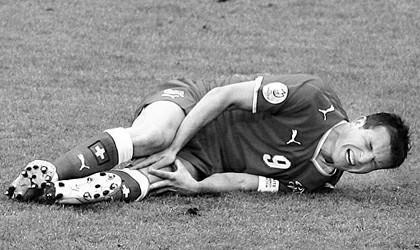Fall-Detected: (5, 56, 409, 215)
